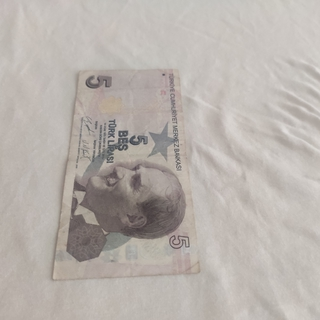5TLFront: (51, 67, 202, 280)
